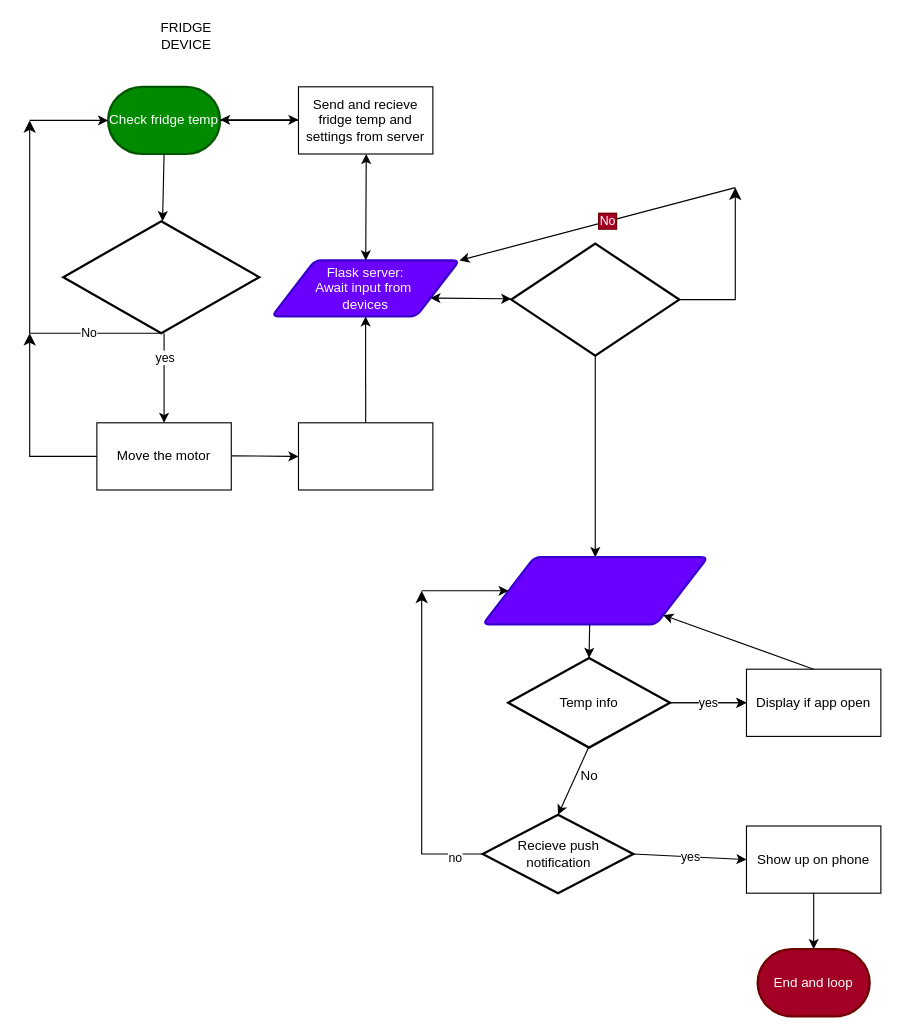
The diagram is 900 pixels wide and 1036 high, and some of its shapes have lost their labels. The centre of each missing label's shape, as x and y in pixels:
"Await data from the server" belongs at [594,590].
"Does stored state match temperature conditions?" belongs at [161,277].
"Recieved input to send a notification" belongs at [595,299].
"Send notification to the server" belongs at [365,456].
